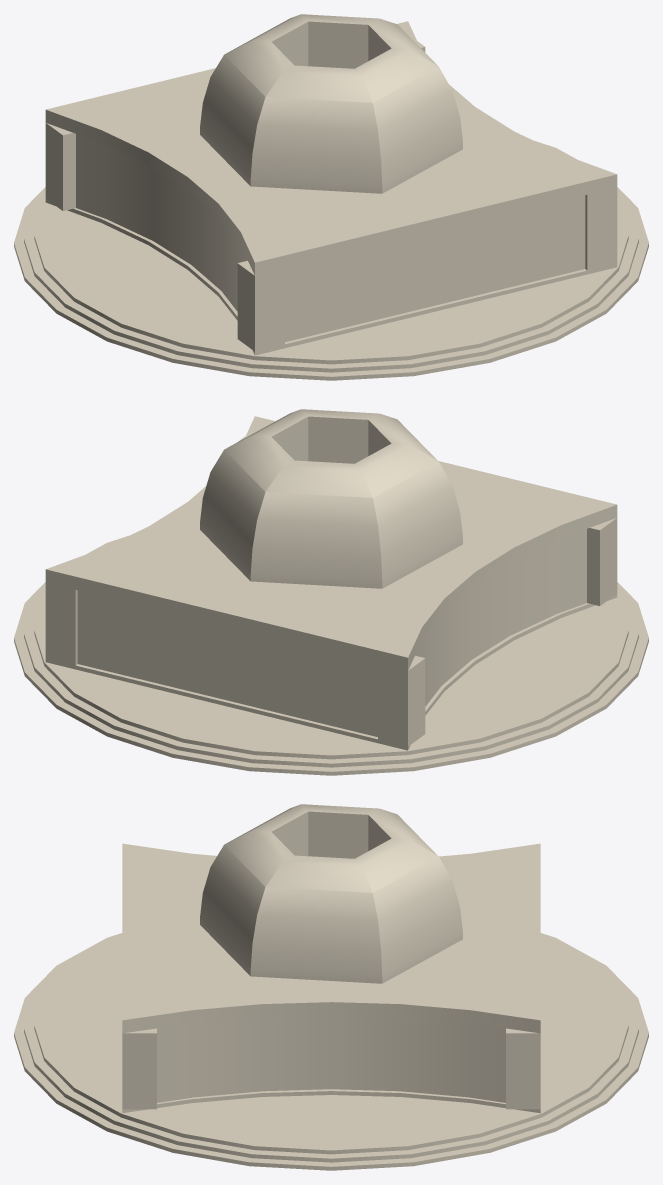
3 renders of one model, top to bottom at view 1: azimuth 30°, elevation 25°; view 2: azimuth 150°, elevation 25°; view 3: azimuth 270°, elevation 25°, orthographic.
Parts seen in each view (by area): view 1: be; view 2: be; view 3: be.
Part boxes in pixels (x1,y1,x2,y2): be: (14,14,648,380); be: (14,409,648,775); be: (14,804,648,1170).
Bounding box in the file's own units: 22 × 7.7 × 22.
